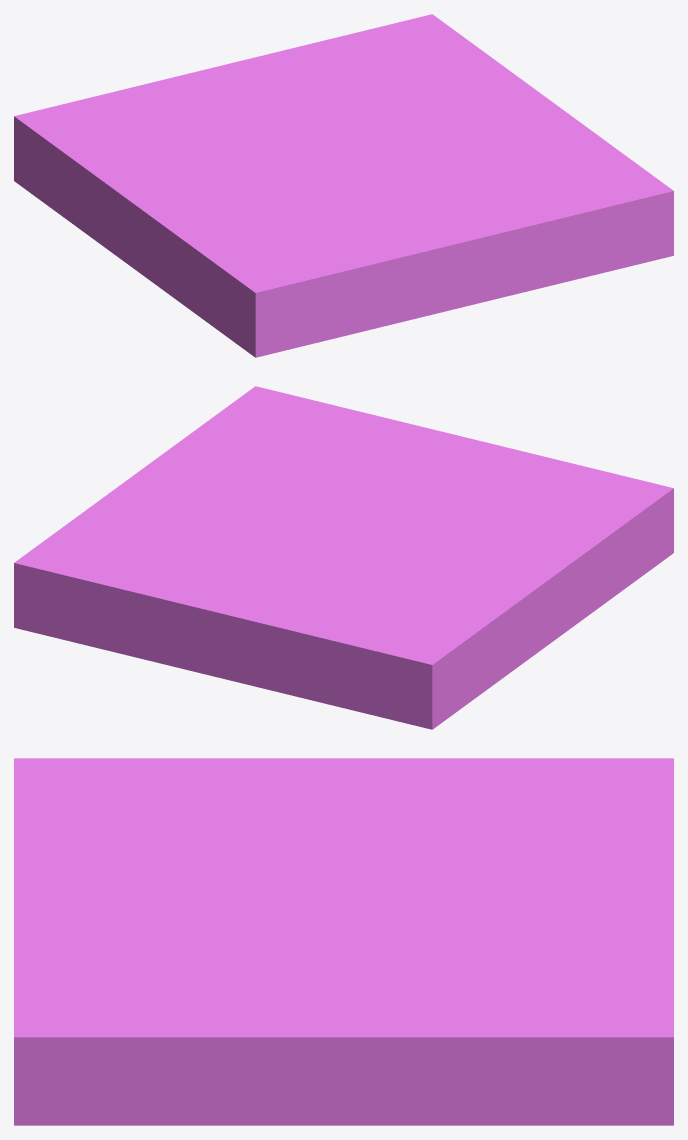
The model's file is CLOSED_CELL.fbx.
The picture shows the model from 3 angles, top to bottom: view 1: azimuth 30°, elevation 25°; view 2: azimuth 150°, elevation 25°; view 3: azimuth 270°, elevation 25°; orthographic projection. The views are drawn at different scales.
Visible parts, largest first — view 1: Cube_ClosedCell; view 2: Cube_ClosedCell; view 3: Cube_ClosedCell.
Part boxes in pixels (<box>): Cube_ClosedCell: <box>14,14,673,357</box>; Cube_ClosedCell: <box>14,386,673,729</box>; Cube_ClosedCell: <box>14,758,673,1125</box>.
Size of the model in its own units: 1 by 0.148 by 1.
